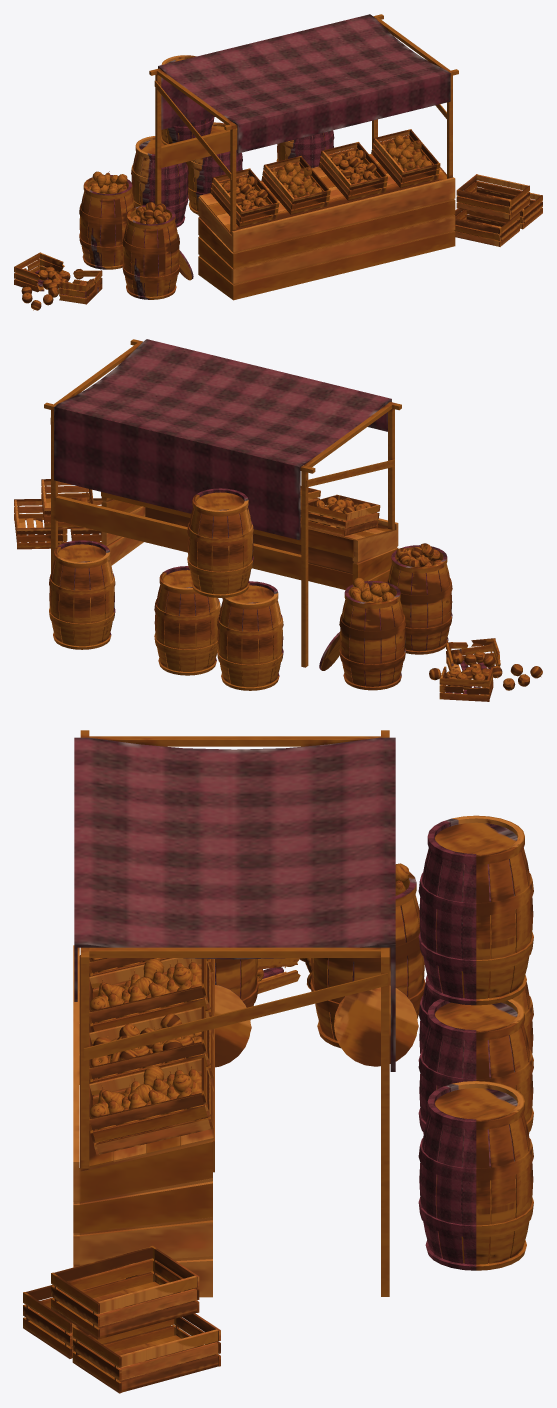
The model's file is Concept_4.fbx.
The picture shows the model from 3 angles, top to bottom: view 1: azimuth 30°, elevation 25°; view 2: azimuth 150°, elevation 25°; view 3: azimuth 270°, elevation 25°; orthographic projection. The views are drawn at different scales.
Parts seen in each view (by area): view 1: Cube.130, Cube.131, Circle.079, Circle.081, Circle.075, Cube.151, Cube.149, Cube.134, Cube.135, Cube.133, Circle.076, Cube.132 (+5 smaller); view 2: Cube.130, Cube.131, Circle.078, Circle.077, Circle.075, Circle.081, Circle.076, Circle.079, Cube.132, Cube.150, Cube.137, Cube.151 (+3 smaller); view 3: Cube.130, Circle.078, Circle.077, Cube.131, Cube.151, Circle.076, Cube.150, Cube.135, Circle.081, Circle.082, Cube.133, Cube.134 (+6 smaller).
Boxes of the visible parts, x1,y1,x2,y2 form: Cube.130: [149, 14, 458, 234]; Cube.131: [198, 154, 455, 300]; Circle.079: [122, 205, 179, 299]; Circle.081: [79, 175, 135, 269]; Circle.075: [131, 136, 188, 227]; Cube.151: [456, 174, 529, 219]; Cube.149: [454, 208, 519, 246]; Cube.134: [319, 142, 387, 201]; Cube.135: [371, 129, 440, 188]; Cube.133: [261, 156, 330, 214]; Circle.076: [186, 122, 242, 214]; Cube.132: [210, 168, 279, 227]; Cube.130: [44, 339, 401, 667]; Cube.131: [101, 492, 398, 589]; Circle.078: [49, 540, 115, 649]; Circle.077: [187, 488, 253, 597]; Circle.075: [217, 581, 283, 690]; Circle.081: [339, 581, 405, 690]; Circle.076: [154, 566, 220, 675]; Circle.079: [387, 545, 452, 654]; Cube.132: [300, 494, 380, 536]; Cube.150: [14, 499, 67, 549]; Cube.137: [439, 666, 493, 701]; Cube.151: [41, 479, 93, 529]; Cube.130: [74, 730, 395, 1296]; Circle.078: [418, 1081, 533, 1270]; Circle.077: [418, 815, 533, 1005]; Cube.131: [73, 945, 214, 1297]; Cube.151: [51, 1246, 199, 1339]; Circle.076: [418, 999, 533, 1133]; Cube.150: [72, 1313, 220, 1393]; Cube.135: [89, 1057, 213, 1155]; Circle.081: [310, 872, 425, 1048]; Circle.082: [334, 985, 417, 1066]; Cube.133: [89, 958, 213, 1040]; Cube.134: [89, 1006, 213, 1095].
Bounding box in the file's own units: 346 × 119 × 158.
